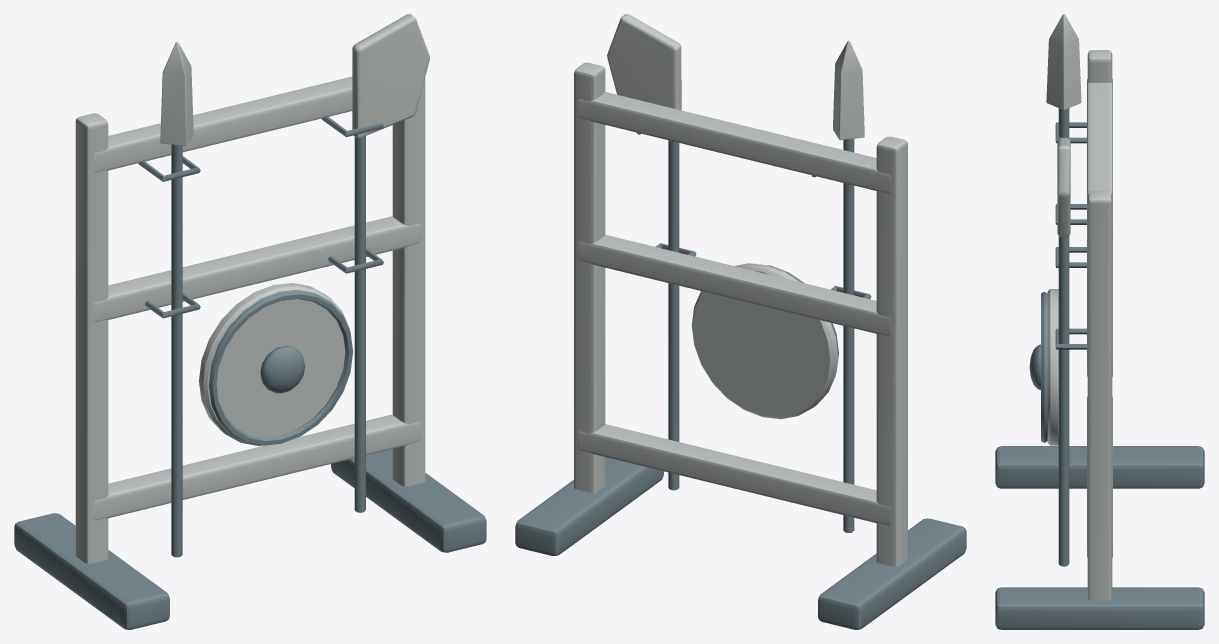
Rendered from weapon-rack.glb.
The picture shows the model from 3 angles, left to right: view 1: azimuth 30°, elevation 25°; view 2: azimuth 150°, elevation 25°; view 3: azimuth 270°, elevation 25°; orthographic projection. The views are drawn at different scales.
Visible parts, largest first — view 1: shield_disc, upright, upright.001, crossbeam, crossbeam.001, rack_foot, crossbeam.002, axe_blade, rack_foot.001, weapon_shaft, weapon_shaft.001, shield_rim (+2 smaller); view 2: shield_disc, upright, upright.001, crossbeam, crossbeam.002, crossbeam.001, rack_foot, rack_foot.001, axe_blade, weapon_shaft, weapon_shaft.001, spearhead; view 3: upright.001, rack_foot.001, rack_foot, weapon_shaft.001, crossbeam.002, spearhead, shield_disc, axe_blade, shield_rim, upright, shield_boss, weapon_hook.002 (+3 smaller).
Boxes of the visible parts, left/top/right/bottom form: shield_disc: left=199, top=283, right=349, bottom=445; upright: left=75, top=113, right=108, bottom=563; upright.001: left=392, top=78, right=425, bottom=486; crossbeam: left=93, top=414, right=421, bottom=520; crossbeam.001: left=93, top=216, right=421, bottom=322; rack_foot: left=14, top=513, right=169, bottom=629; crossbeam.002: left=93, top=76, right=352, bottom=172; axe_blade: left=352, top=14, right=429, bottom=138; rack_foot.001: left=331, top=449, right=486, bottom=552; weapon_shaft: left=171, top=144, right=182, bottom=557; weapon_shaft.001: left=354, top=136, right=365, bottom=512; shield_rim: left=209, top=291, right=352, bottom=445; shield_disc: left=691, top=263, right=838, bottom=419; upright: left=876, top=136, right=907, bottom=566; upright.001: left=574, top=62, right=605, bottom=492; crossbeam: left=578, top=424, right=891, bottom=525; crossbeam.002: left=578, top=92, right=891, bottom=193; crossbeam.001: left=578, top=234, right=891, bottom=336; rack_foot: left=818, top=518, right=966, bottom=629; rack_foot.001: left=515, top=457, right=663, bottom=555; axe_blade: left=607, top=14, right=681, bottom=110; weapon_shaft: left=843, top=138, right=854, bottom=532; weapon_shaft.001: left=668, top=140, right=679, bottom=490; spearhead: left=833, top=40, right=864, bottom=140; upright.001: left=1087, top=191, right=1112, bottom=600; rack_foot.001: left=995, top=587, right=1204, bottom=629; rack_foot: left=995, top=446, right=1204, bottom=488; weapon_shaft.001: left=1058, top=236, right=1069, bottom=566; crossbeam.002: left=1087, top=79, right=1112, bottom=239; spearhead: left=1046, top=14, right=1081, bottom=109; shield_disc: left=1047, top=289, right=1058, bottom=445; axe_blade: left=1057, top=138, right=1070, bottom=236; shield_rim: left=1041, top=291, right=1047, bottom=442; upright: left=1087, top=50, right=1112, bottom=82; shield_boss: left=1029, top=344, right=1040, bottom=390; weapon_hook.002: left=1055, top=328, right=1086, bottom=349.
Size of the model in its own units: 1.17 by 1.67 by 0.64.
